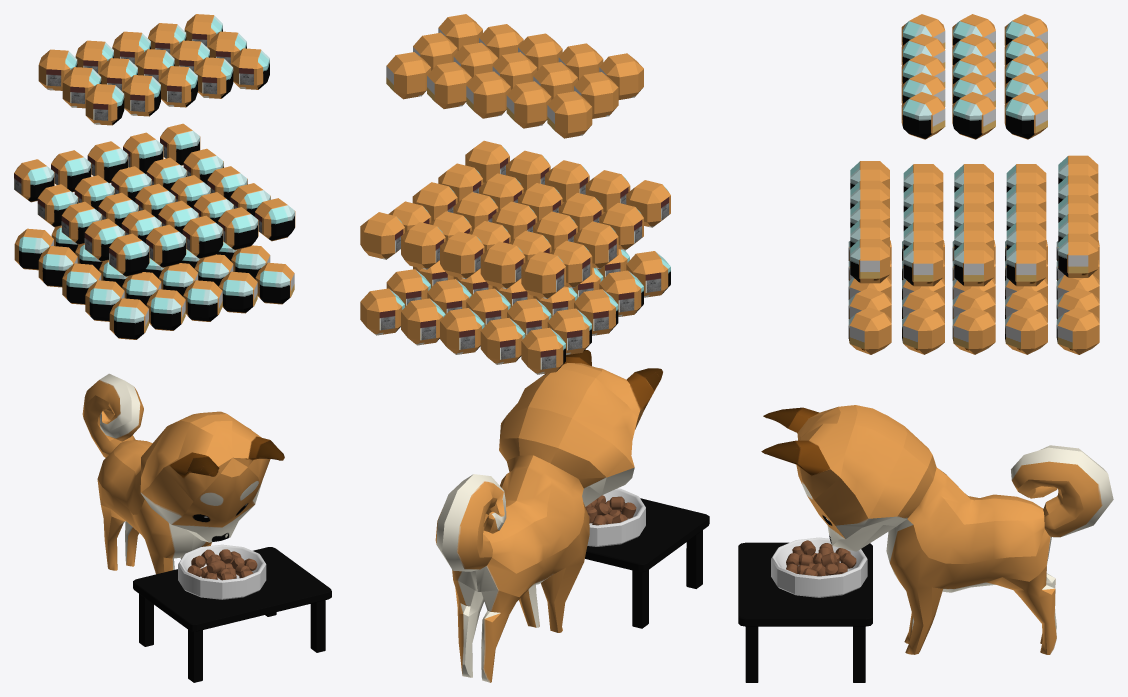
The model's file is fullBowl_frame28.obj.
3 renders of one model, left to right at view 1: azimuth 30°, elevation 25°; view 2: azimuth 150°, elevation 25°; view 3: azimuth 270°, elevation 25°, orthographic. The views are drawn at different scales.
Parts seen in each view (by area): view 1: newRigging1:BodzL1, Tisch:Tisch:pCube1, FressnapfFull:bulletRigidSetSolved1, FressnapfFull:pCube45, FressnapfFull:pCube46, FressnapfFull:pCube57, FressnapfFull:pCube48, FressnapfFull:pCube50, FressnapfFull:pCube43, FressnapfFull:pCube49, FressnapfFull:pCube42, FressnapfFull:pCube36 (+44 smaller); view 2: newRigging1:BodzL1, Tisch:Tisch:pCube1, FressnapfFull:pCube39, FressnapfFull:bulletRigidSetSolved1, FressnapfFull:pCube51, FressnapfFull:pCube64, FressnapfFull:pCube54, FressnapfFull:pCube37, FressnapfFull:pCube61, FressnapfFull:pCube55, FressnapfFull:pCube53, FressnapfFull:pCube41 (+45 smaller); view 3: newRigging1:BodzL1, Tisch:Tisch:pCube1, FressnapfFull:bulletRigidSetSolved1, FressnapfFull:pCube36, FressnapfFull:pCube4, FressnapfFull:pCube41, FressnapfFull:pCube50, FressnapfFull:pCube55, FressnapfFull:pCube31, FressnapfFull:pCube20, FressnapfFull:pCube10, FressnapfFull:pCube15 (+42 smaller).
Boxes of the visible parts, box(x1,y1,x2,y2) form: newRigging1:BodzL1: box(82, 373, 284, 574); Tisch:Tisch:pCube1: box(133, 547, 331, 682); FressnapfFull:bulletRigidSetSolved1: box(178, 544, 266, 599); FressnapfFull:pCube45: box(85, 84, 124, 125); FressnapfFull:pCube46: box(109, 298, 148, 339); FressnapfFull:pCube57: box(109, 233, 149, 276); FressnapfFull:pCube48: box(183, 280, 222, 321); FressnapfFull:pCube50: box(255, 262, 294, 304); FressnapfFull:pCube43: box(159, 66, 197, 107); FressnapfFull:pCube49: box(146, 289, 185, 330); FressnapfFull:pCube42: box(122, 75, 160, 116); FressnapfFull:pCube36: box(231, 48, 269, 89); newRigging1:BodzL1: box(435, 350, 662, 682); Tisch:Tisch:pCube1: box(585, 498, 709, 628); FressnapfFull:pCube39: box(547, 91, 592, 138); FressnapfFull:bulletRigidSetSolved1: box(587, 488, 645, 546); FressnapfFull:pCube51: box(521, 327, 565, 374); FressnapfFull:pCube64: box(521, 251, 565, 298); FressnapfFull:pCube54: box(480, 318, 525, 364); FressnapfFull:pCube37: box(506, 81, 551, 128); FressnapfFull:pCube61: box(480, 241, 525, 289); FressnapfFull:pCube55: box(360, 288, 404, 335); FressnapfFull:pCube53: box(440, 308, 484, 354); FressnapfFull:pCube41: box(386, 52, 430, 99); newRigging1:BodzL1: box(761, 405, 1113, 654); Tisch:Tisch:pCube1: box(738, 542, 872, 682); FressnapfFull:bulletRigidSetSolved1: box(771, 537, 867, 597); FressnapfFull:pCube36: box(901, 92, 945, 139); FressnapfFull:pCube4: box(952, 307, 995, 354); FressnapfFull:pCube41: box(1004, 92, 1047, 139); FressnapfFull:pCube50: box(848, 307, 891, 354); FressnapfFull:pCube55: box(1056, 307, 1099, 354); FressnapfFull:pCube31: box(952, 92, 995, 139); FressnapfFull:pCube20: box(1006, 242, 1046, 286); FressnapfFull:pCube10: box(902, 307, 944, 354); FressnapfFull:pCube15: box(1005, 307, 1047, 354).
Bounding box in the file's own units: 5.73 × 16.34 × 9.44.
Materials: 4 (3 with a texture image).
